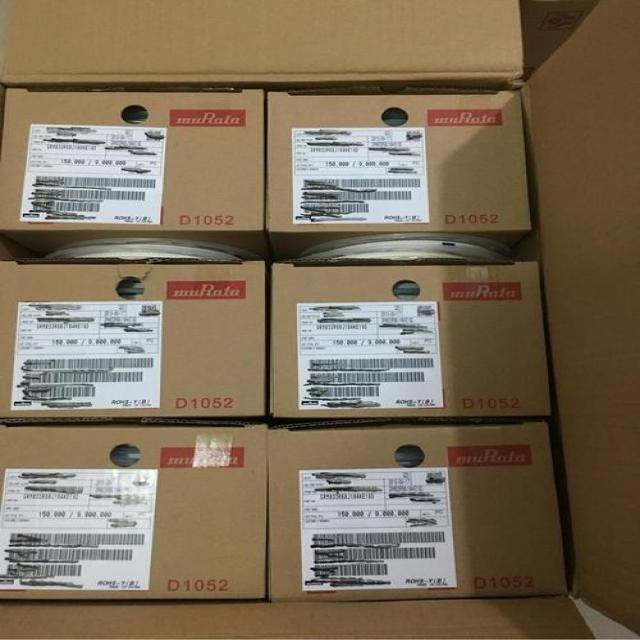box: (269, 422, 569, 597), (0, 86, 268, 263), (0, 425, 266, 602), (267, 89, 535, 263), (267, 262, 551, 422), (0, 260, 270, 425)
